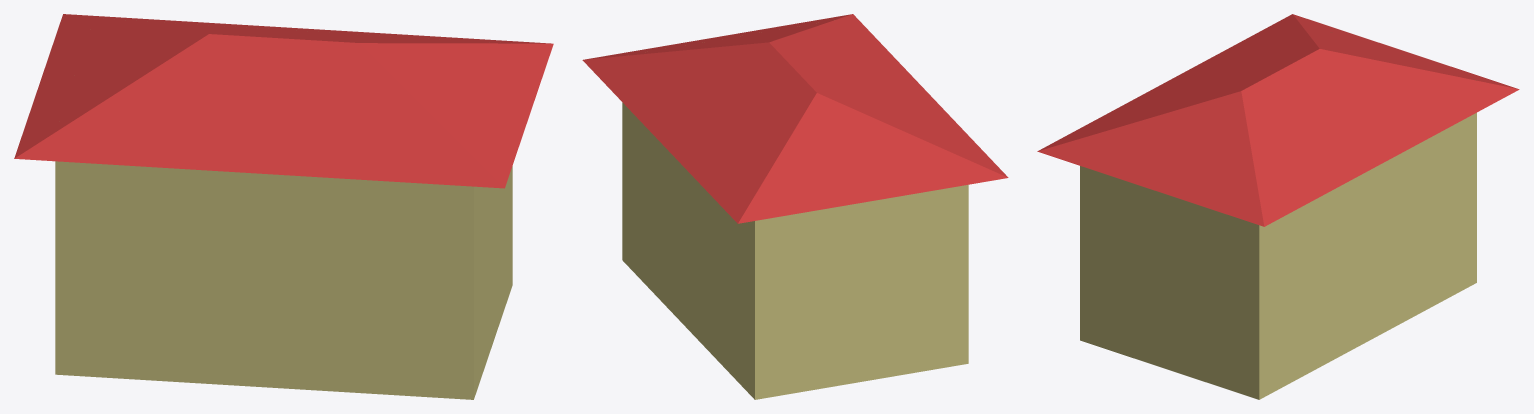
The picture shows the model from 3 angles, left to right: view 1: azimuth 30°, elevation 25°; view 2: azimuth 150°, elevation 25°; view 3: azimuth 270°, elevation 25°; orthographic projection. The views are drawn at different scales.
Visible parts, largest first — view 1: group_5, group_3, group_4; view 2: group_5, group_3, group_4; view 3: group_5, group_3, group_4.
Part boxes in pixels (left/top/right/bottom): group_5: left=55, top=161, right=512, bottom=399; group_3: left=14, top=18, right=512, bottom=188; group_4: left=14, top=14, right=553, bottom=187; group_5: left=622, top=102, right=968, bottom=399; group_3: left=622, top=14, right=1007, bottom=223; group_4: left=582, top=14, right=1008, bottom=223; group_5: left=1080, top=112, right=1476, bottom=399; group_3: left=1037, top=14, right=1476, bottom=197; group_4: left=1037, top=14, right=1519, bottom=226.
Size of the model in its own units: 24.79 by 23.76 by 13.16.
